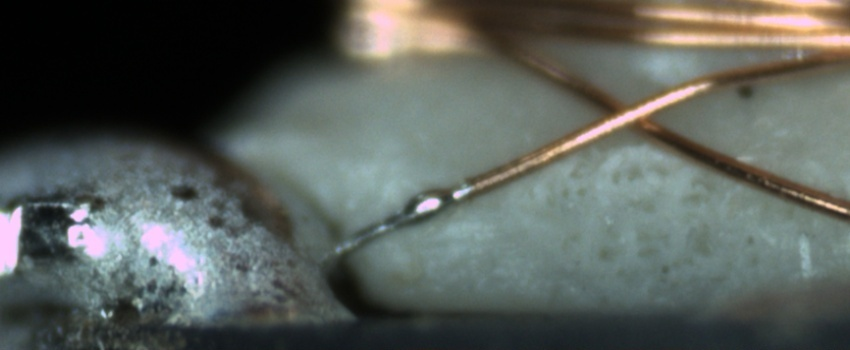CL: (579, 83, 678, 142)
DL: (533, 131, 832, 184)
TB: (398, 183, 448, 225)
TS: (337, 184, 474, 255)
TTCW: (331, 156, 519, 258)
